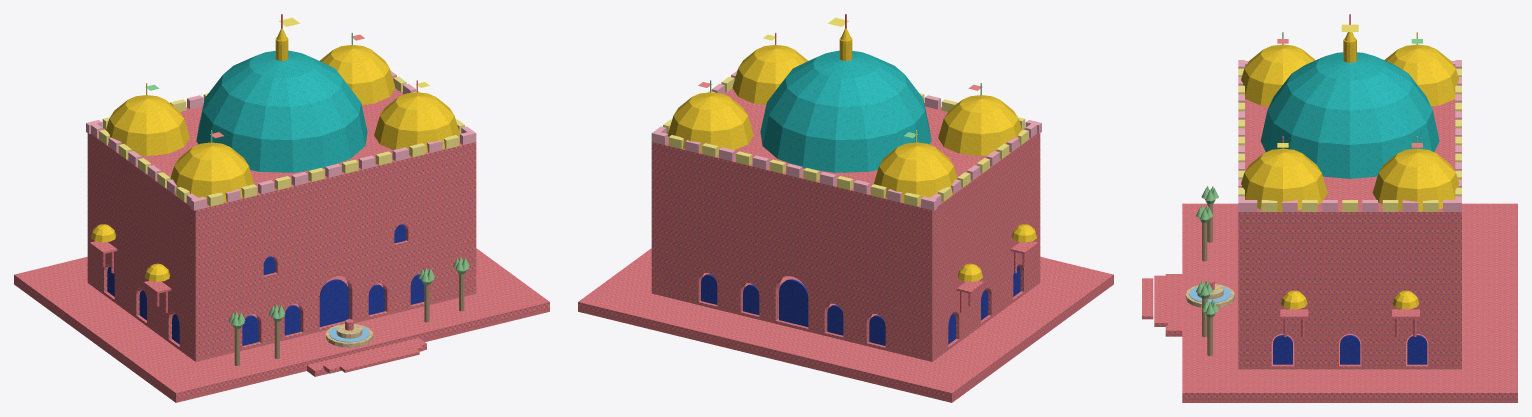
File: mahal_palace_vibrant.glb
3 renders of one model, left to right at view 1: azimuth 30°, elevation 25°; view 2: azimuth 150°, elevation 25°; view 3: azimuth 270°, elevation 25°, orthographic. The views are drawn at different scales.
Parts seen in each view (by area): view 1: MahalPalaceVibrant; view 2: MahalPalaceVibrant; view 3: MahalPalaceVibrant.
Part boxes in pixels (box(x1,y1,x2,y2)): MahalPalaceVibrant: box(14, 14, 549, 402); MahalPalaceVibrant: box(578, 14, 1113, 402); MahalPalaceVibrant: box(1142, 14, 1517, 402).
Bounding box in the file's own units: 40 × 29 × 33.6.
Materials: 13 (5 with a texture image).
